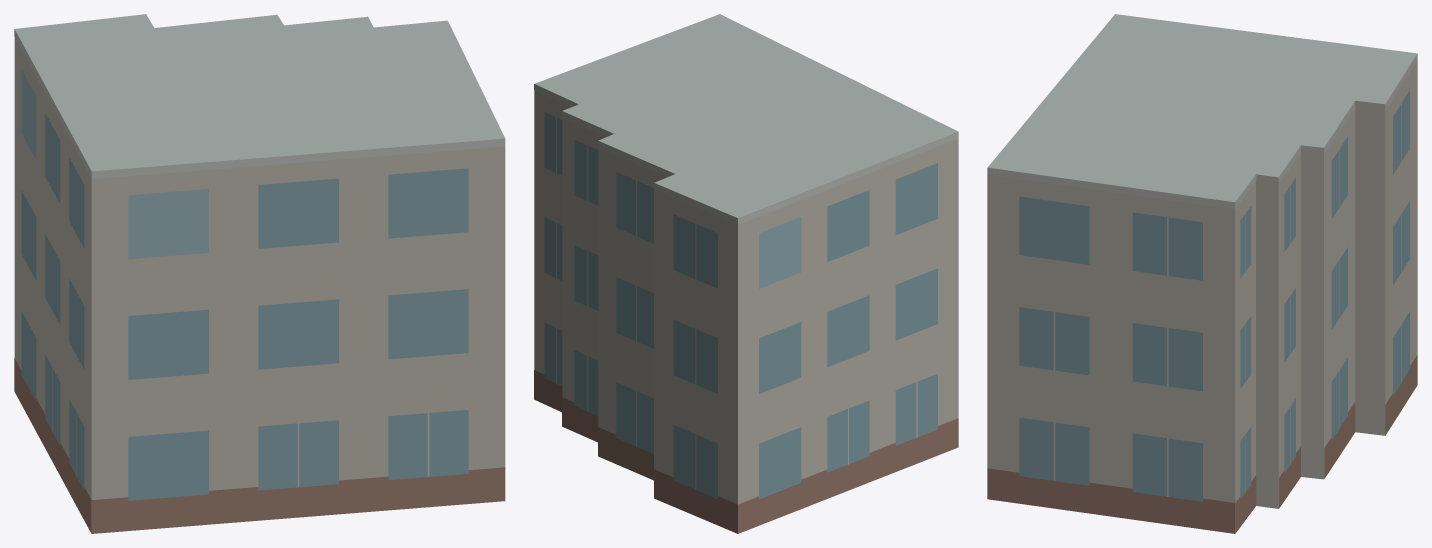
Rendered from survey-upis-32486209.glb.
3 renders of one model, left to right at view 1: azimuth 30°, elevation 25°; view 2: azimuth 150°, elevation 25°; view 3: azimuth 270°, elevation 25°, orthographic. The views are drawn at different scales.
Parts seen in each view (by area): view 1: survey-upis-32486209.tmp; view 2: survey-upis-32486209.tmp; view 3: survey-upis-32486209.tmp.
Part boxes in pixels (x1,y1,x2,y2): survey-upis-32486209.tmp: (14, 14, 505, 533); survey-upis-32486209.tmp: (534, 14, 958, 533); survey-upis-32486209.tmp: (987, 14, 1417, 533).
Size of the model in its own units: 14.01 by 11.5 by 13.53.
